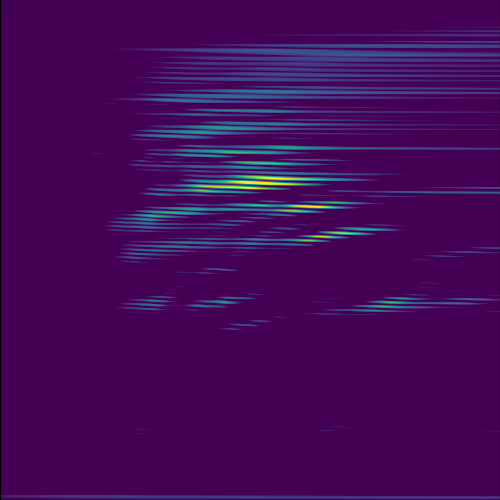semblance: (191, 174, 328, 195), (296, 223, 398, 247), (273, 198, 366, 216)
